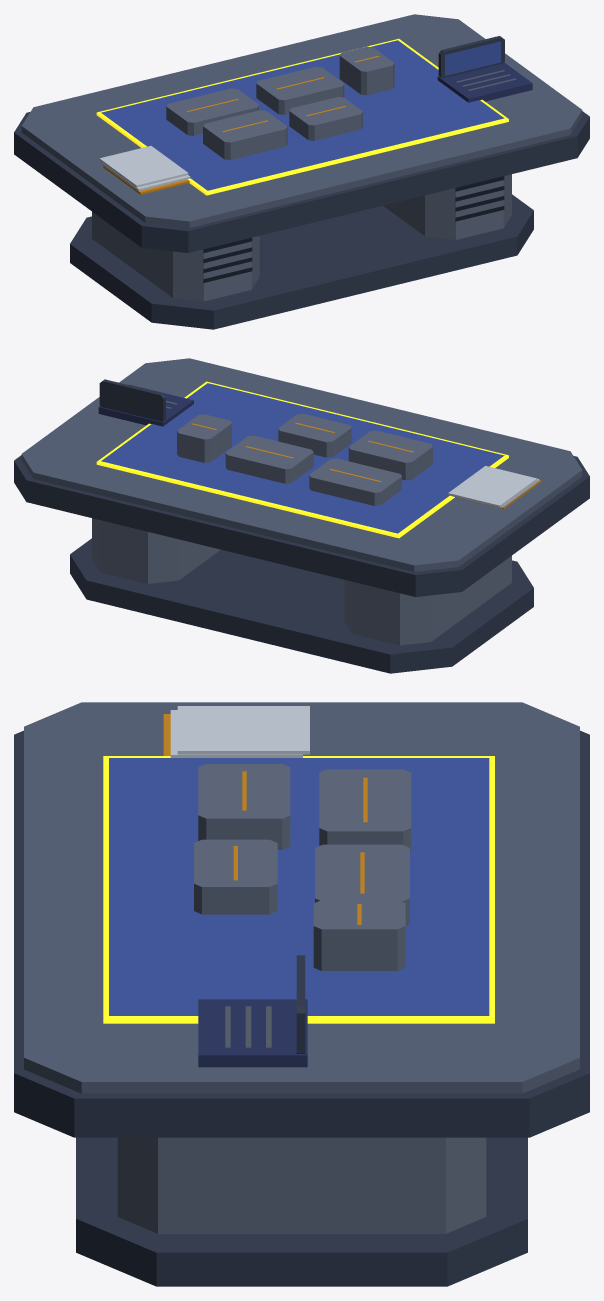
File: lab_briefing_holotable.glb
The picture shows the model from 3 angles, top to bottom: view 1: azimuth 30°, elevation 25°; view 2: azimuth 150°, elevation 25°; view 3: azimuth 270°, elevation 25°; orthographic projection. The views are drawn at different scales.
Parts seen in each view (by area): view 1: foot, table_fascia, pedestal, print, map_bezel, folder.001, field_laptop, pedestal_vent, print.001, folder; view 2: foot, table_fascia, pedestal, print, map_bezel, folder.001, field_laptop, folder; view 3: table_fascia, pedestal, print, foot, folder.001, field_laptop, map_bezel, folder, keyboard.
Boxes of the visible parts, <box> form: foot: <box>14,36,589,329</box>; table_fascia: <box>21,14,582,227</box>; pedestal: <box>92,46,511,301</box>; print: <box>101,40,504,190</box>; map_bezel: <box>96,38,508,195</box>; folder.001: <box>99,146,190,191</box>; field_laptop: <box>437,62,532,102</box>; pedestal_vent: <box>203,176,504,282</box>; print.001: <box>445,41,500,75</box>; folder: <box>103,55,379,194</box>; foot: <box>14,379,589,673</box>; table_fascia: <box>21,358,582,571</box>; pedestal: <box>92,413,511,645</box>; print: <box>101,383,504,533</box>; map_bezel: <box>96,381,508,538</box>; folder.001: <box>448,466,539,508</box>; field_laptop: <box>98,384,193,426</box>; folder: <box>192,422,540,509</box>; table_fascia: <box>24,702,579,1093</box>; pedestal: <box>117,764,486,1233</box>; print: <box>109,758,489,1015</box>; foot: <box>14,730,589,1286</box>; folder.001: <box>170,706,309,757</box>; field_laptop: <box>198,999,307,1067</box>; map_bezel: <box>103,756,494,1023</box>; folder: <box>163,714,367,924</box>; keyboard: <box>225,1006,271,1047</box>.
Size of the model in its own units: 3.2 by 1.1 by 2.
